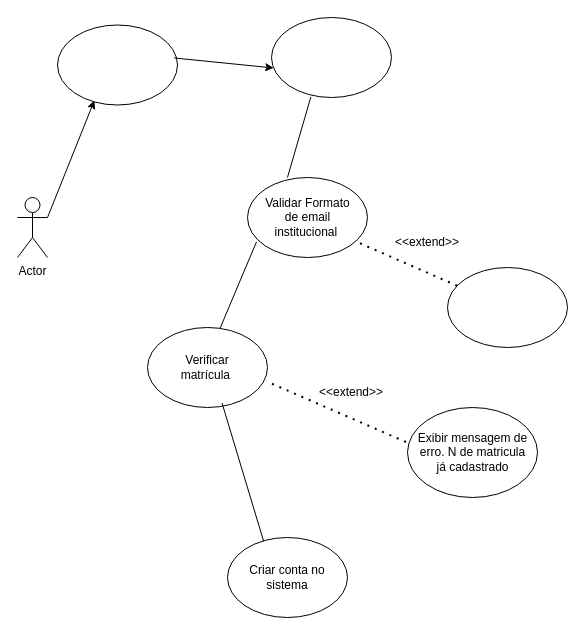
The diagram is 585 pixels wide and 635 high, and some of its shapes have lost their labels. The box of each missing label's shape, as (x1, y1, x2, y2) in pixels:
Acessar página de cadastro: (56, 24, 178, 105)
Exibir mensagem de erro. E-mail inválido: (446, 266, 568, 348)
Preencher nome de usuário, email institucional e senha: (270, 16, 392, 98)
